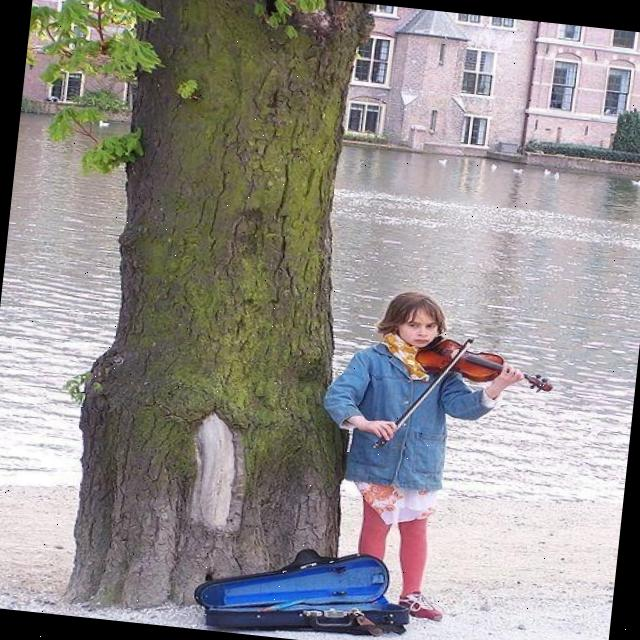violin: (411, 334, 560, 396)
